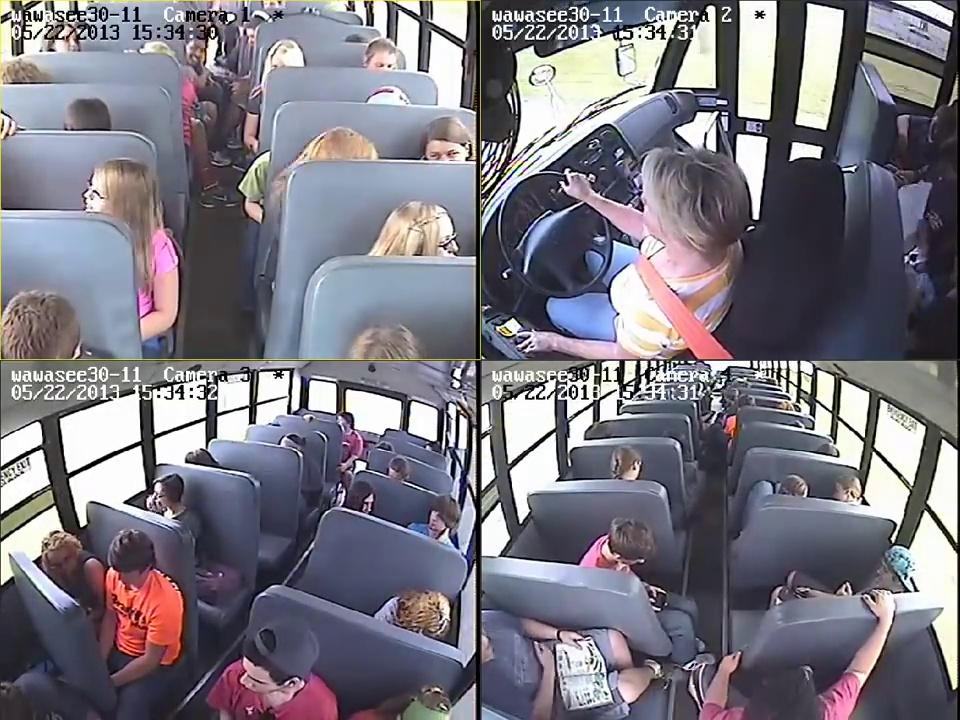face: (82, 167, 123, 211), (424, 129, 464, 162), (427, 217, 457, 259), (240, 660, 269, 699)
